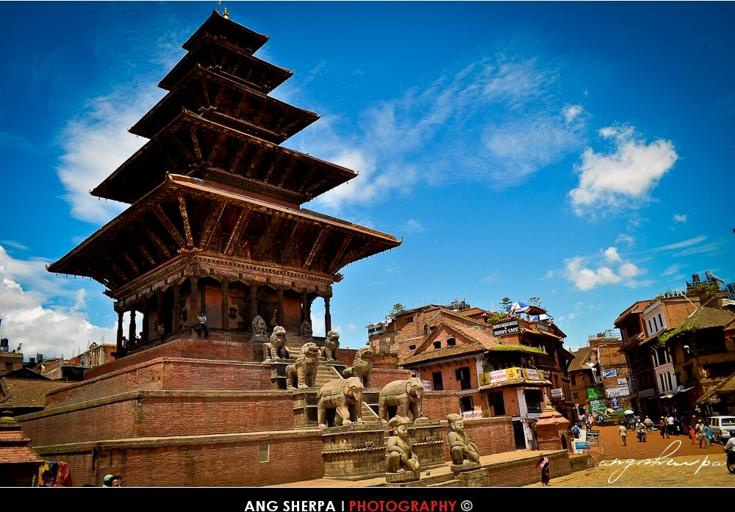non-vehicle: (722, 445, 735, 473), (635, 425, 646, 442)
